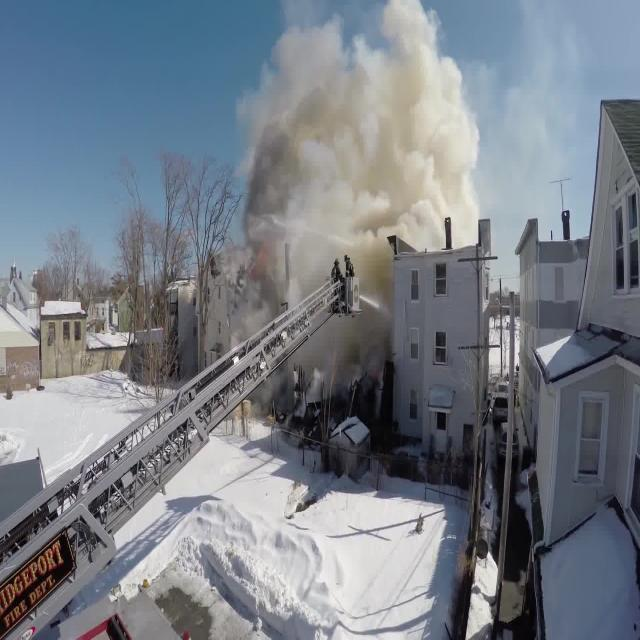Smoke: (228, 16, 471, 366)
